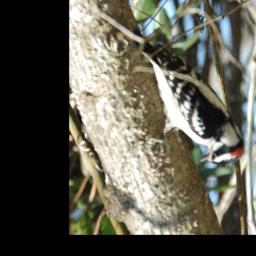Woodpecker: (140, 41, 244, 165)
